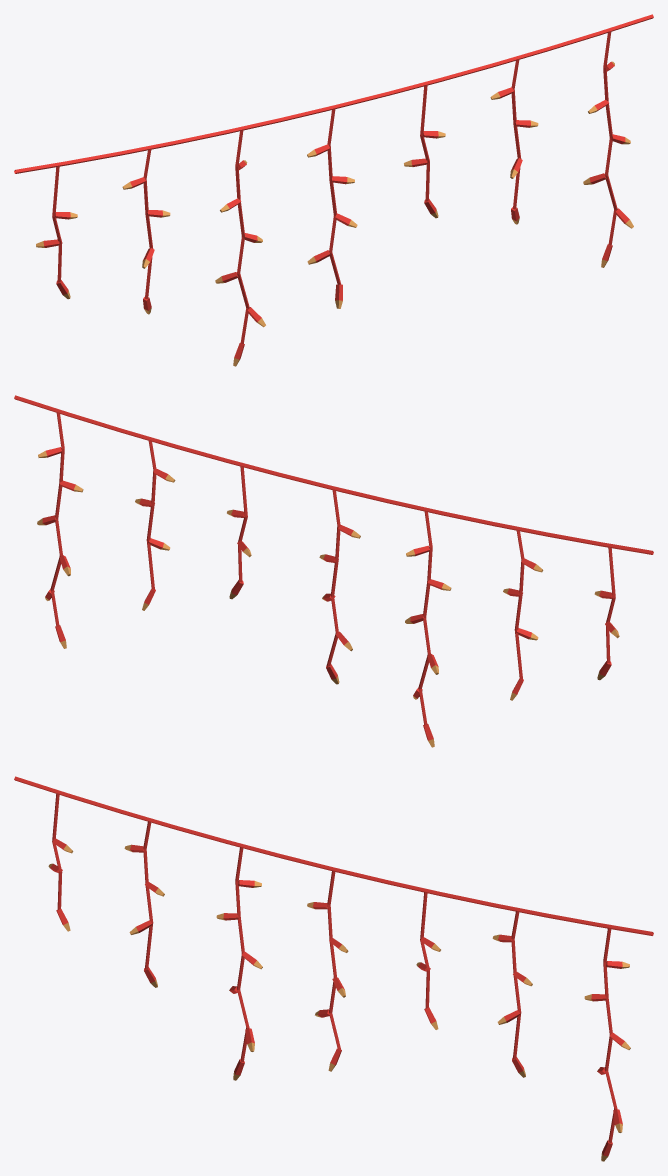
File: SM_Light_String_White_Small_2m_Christmas.fbx
The picture shows the model from 3 angles, top to bottom: view 1: azimuth 30°, elevation 25°; view 2: azimuth 150°, elevation 25°; view 3: azimuth 330°, elevation 25°; orthographic projection.
Visible parts, largest first — view 1: light-string-white-small-2m-christmas; view 2: light-string-white-small-2m-christmas; view 3: light-string-white-small-2m-christmas.
Boxes of the visible parts, x1,y1,x2,y2 form: light-string-white-small-2m-christmas: (14, 14, 653, 366); light-string-white-small-2m-christmas: (14, 395, 653, 747); light-string-white-small-2m-christmas: (14, 776, 653, 1161).
Bounding box in the file's own units: 2 × 0.7503 × 0.0886.
